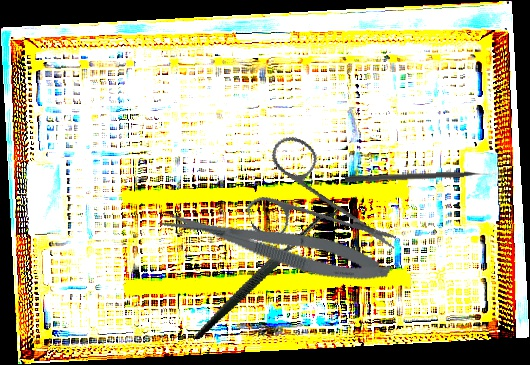Hook Surgical: (165, 192, 361, 340)
Iris Scissors: (228, 114, 400, 291)
Micro Scissor: (155, 195, 395, 294)
Pusher: (344, 170, 499, 184)
